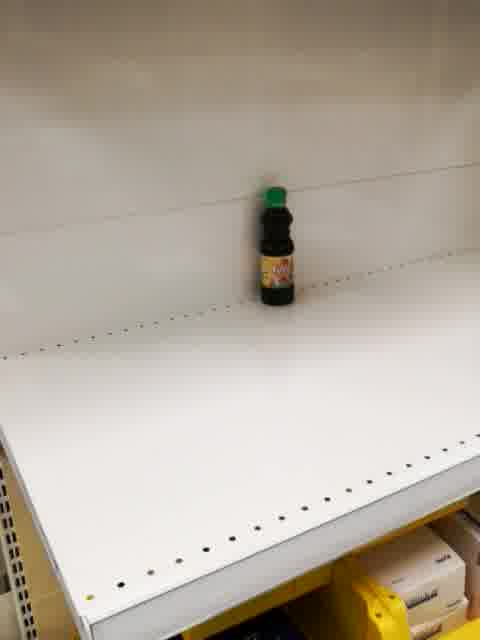cookingoil: (257, 186, 296, 306)
